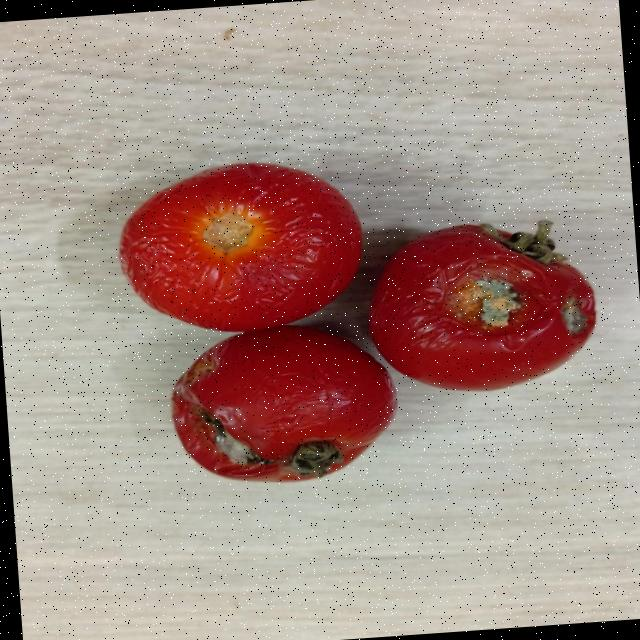Rotten: (356, 216, 599, 400), (163, 320, 400, 491)
overripe: (111, 154, 370, 336)
